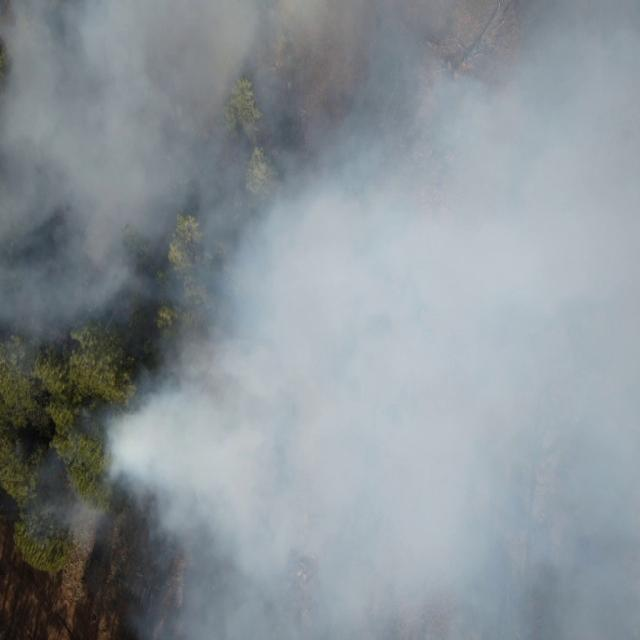fire: (61, 479, 76, 488), (56, 469, 66, 480)
smoke: (1, 1, 640, 378), (109, 376, 640, 640), (26, 401, 110, 565)
